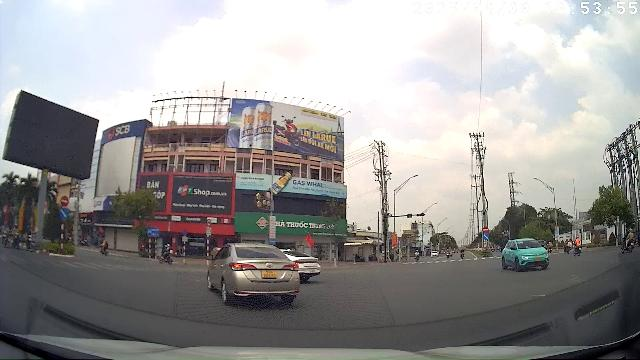102-cam-di-nguoc-chieu: (60, 196, 70, 206), (482, 226, 488, 233)
302a-huong-phai-di-vong-chuong-ngai-vat-1: (59, 208, 70, 220), (482, 233, 490, 239)
